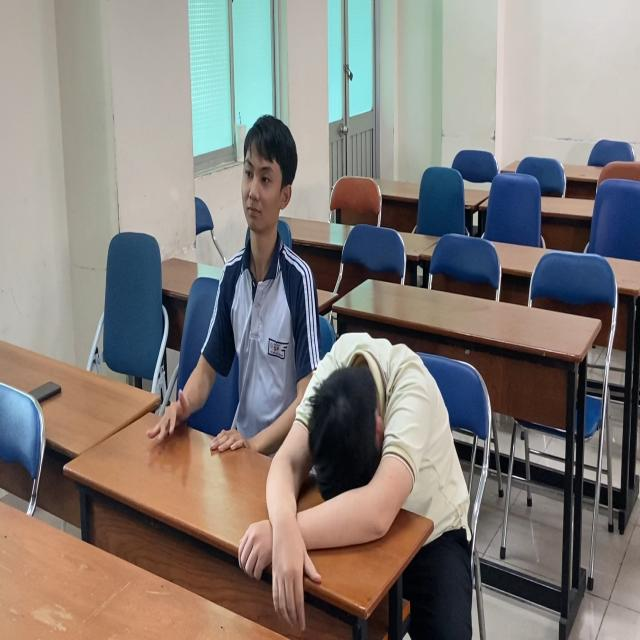sleep: (270, 310, 462, 554)
